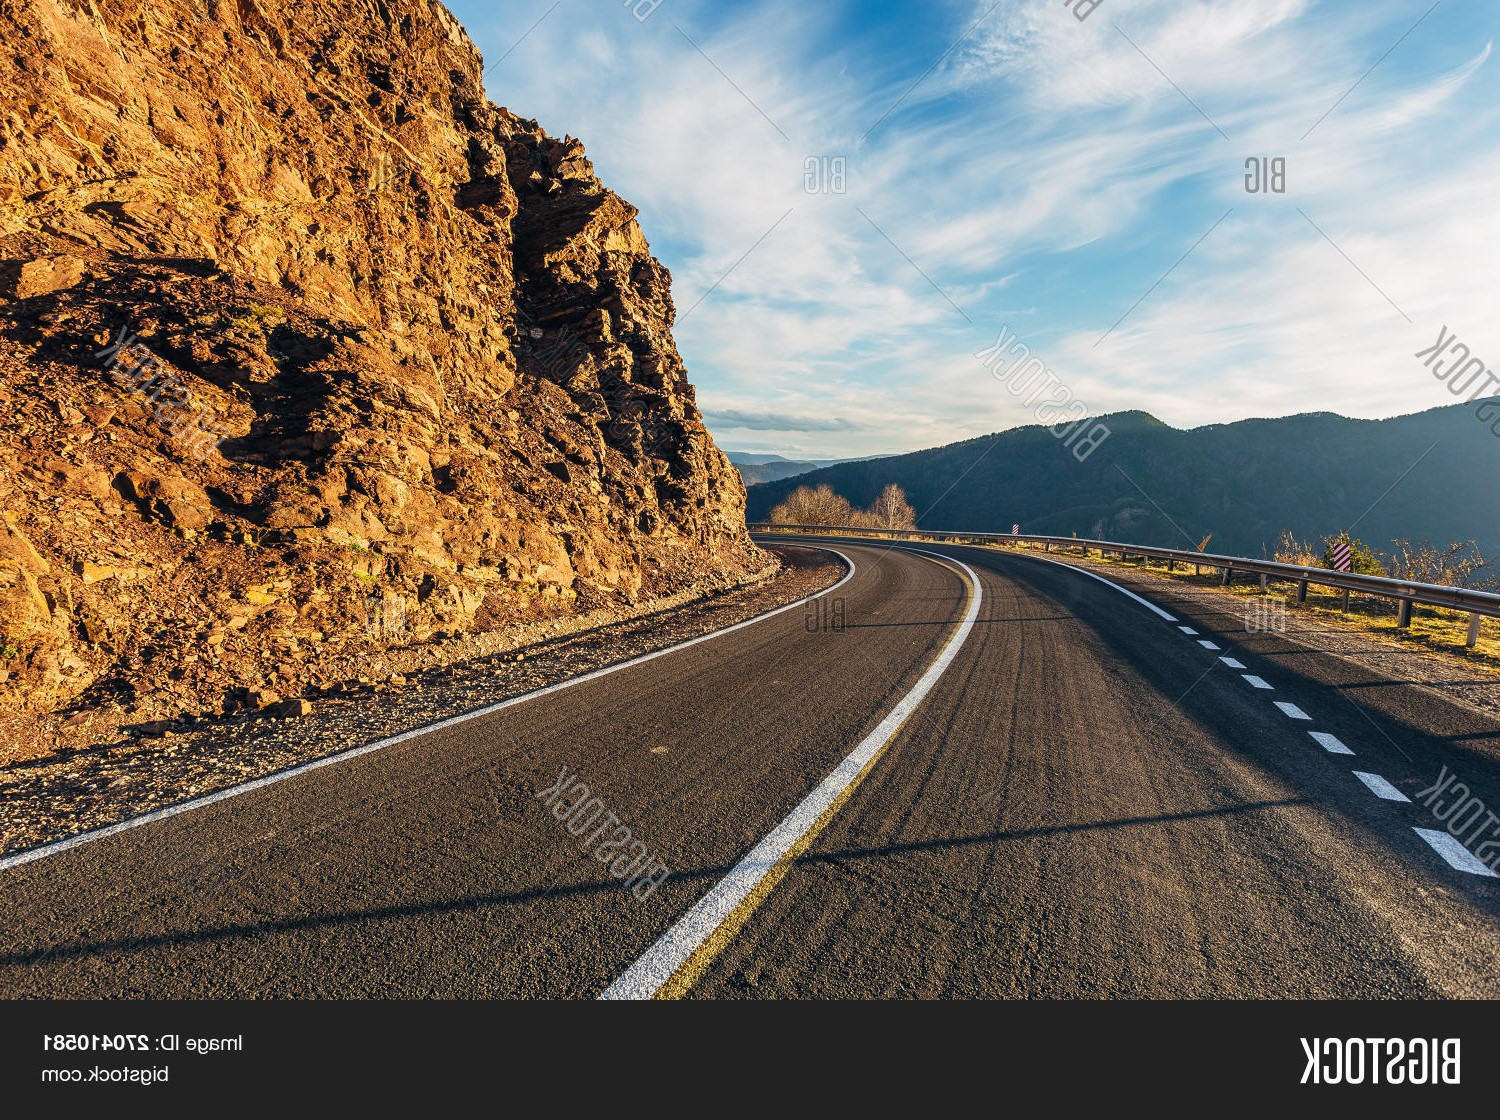leftTrun: (726, 495, 1186, 842)
